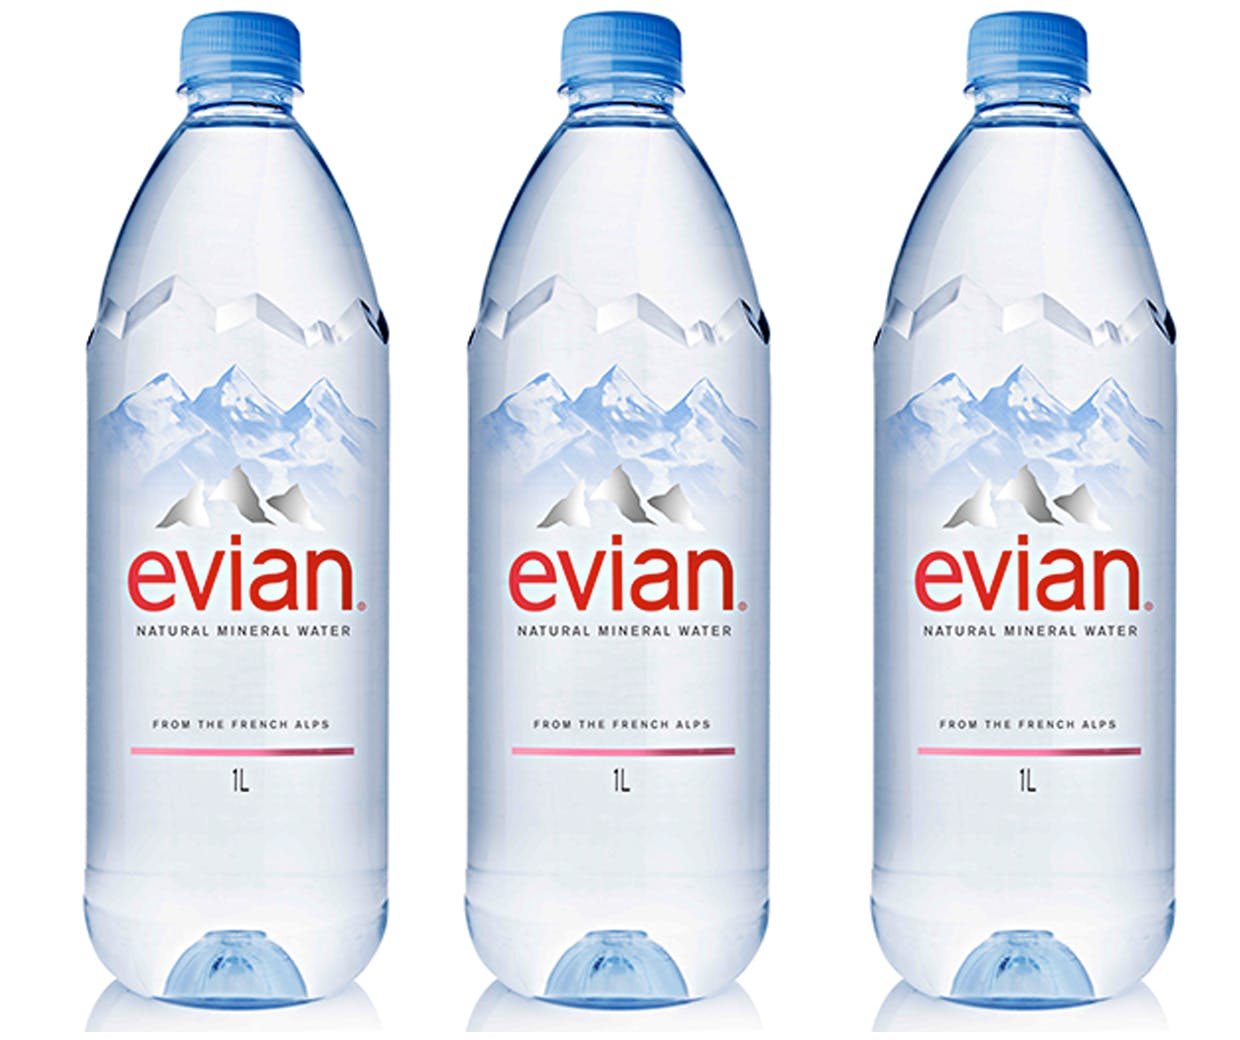PlasticBottle: (864, 11, 1212, 1008), (72, 11, 412, 1026), (451, 11, 791, 1017)
